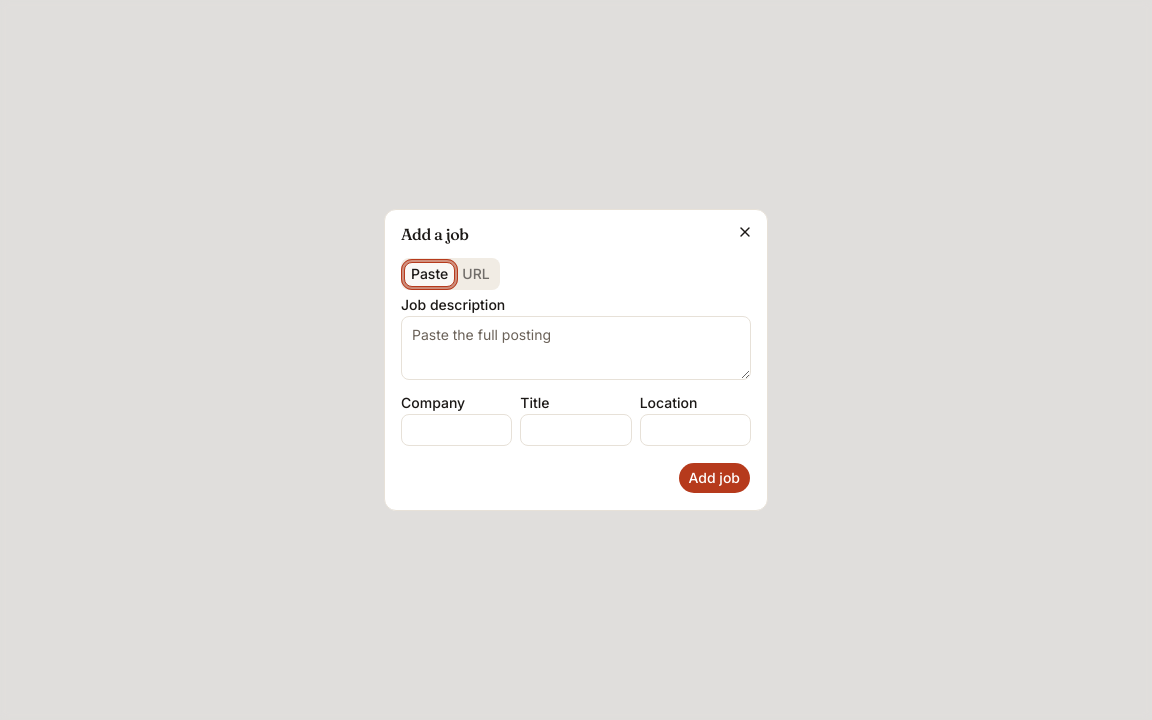
Test: AddJobDialog › requires at least 50 characters of pasted text
Step 1. Type "too short" into the text box labelled "Job description" → (576, 348), box [401,316,751,380]
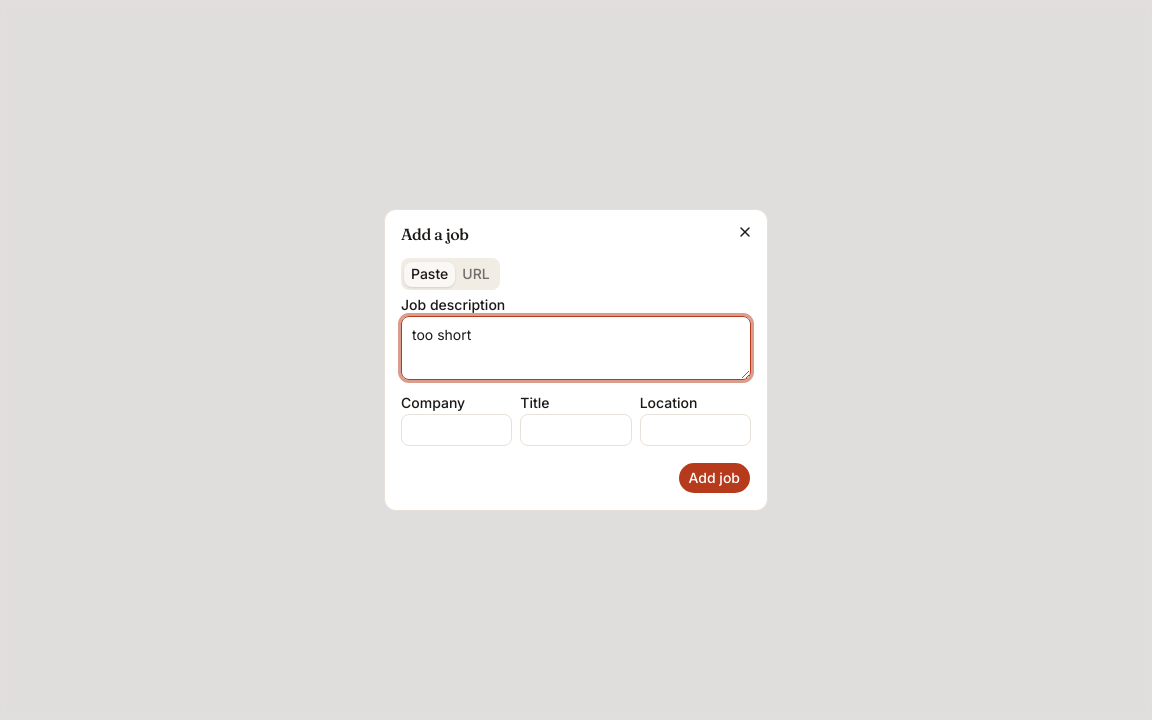
Step 2. Click the button "Add job" → (714, 478), box [678,462,751,494]
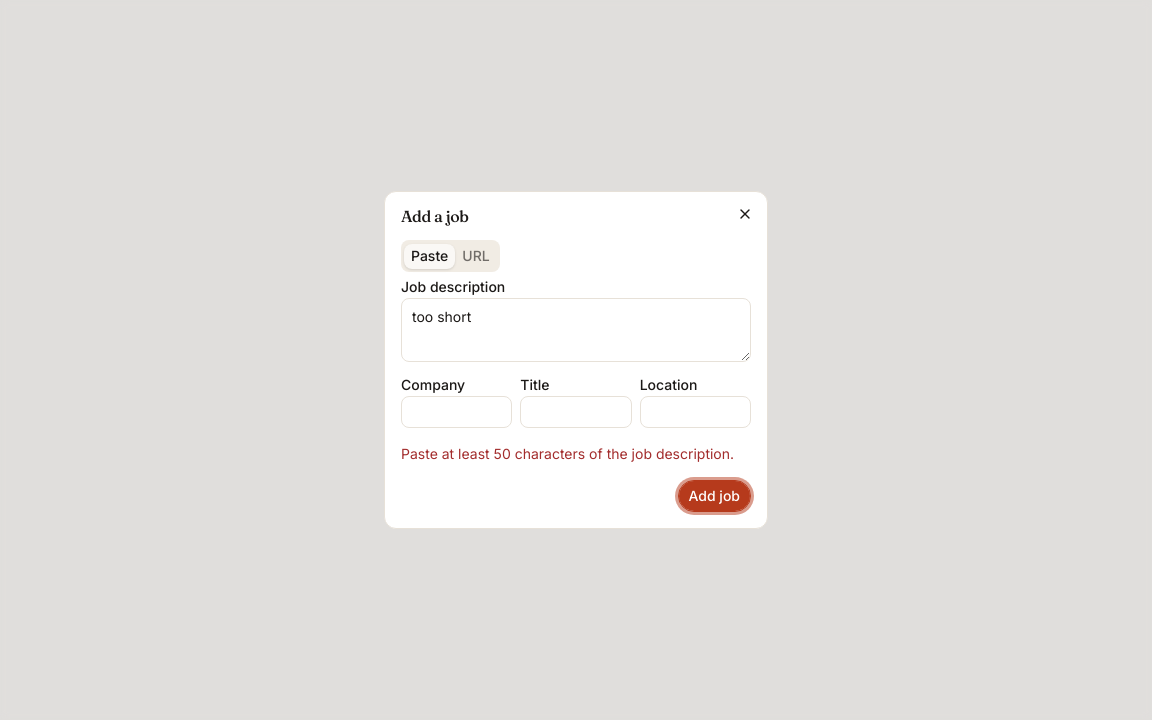
Now the text "Paste at least 50 characters of the job description." is shown, box [401,444,751,464]
